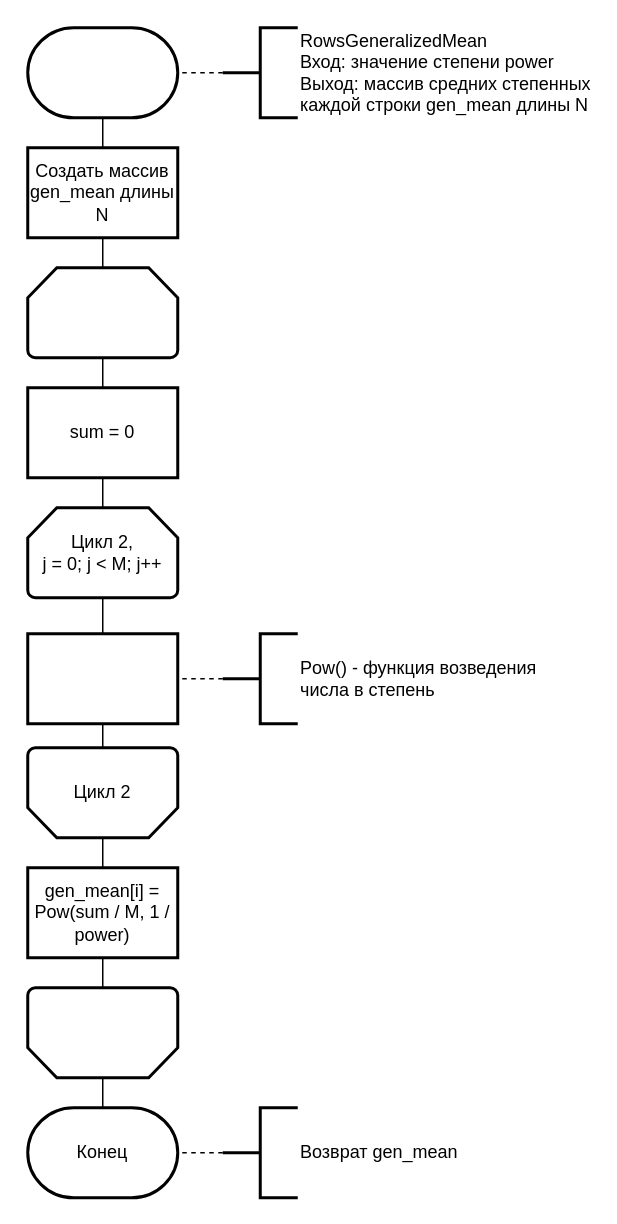
The diagram is 617 pixels wide and 1224 high, and some of its shapes have lost their labels. Each missing label, with the centre of its shape:
sum = sum + Pow(matrix[i, j], power): (102,678)
Начало: (102,72)
Цикл 1: (102,1032)
Цикл 1, i = 0; i < N; i++: (102,312)
